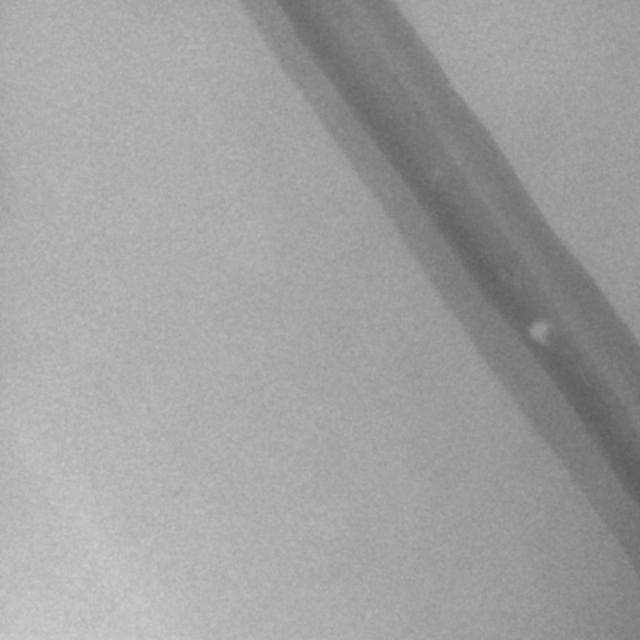slag inclusion: (529, 320, 548, 345)
